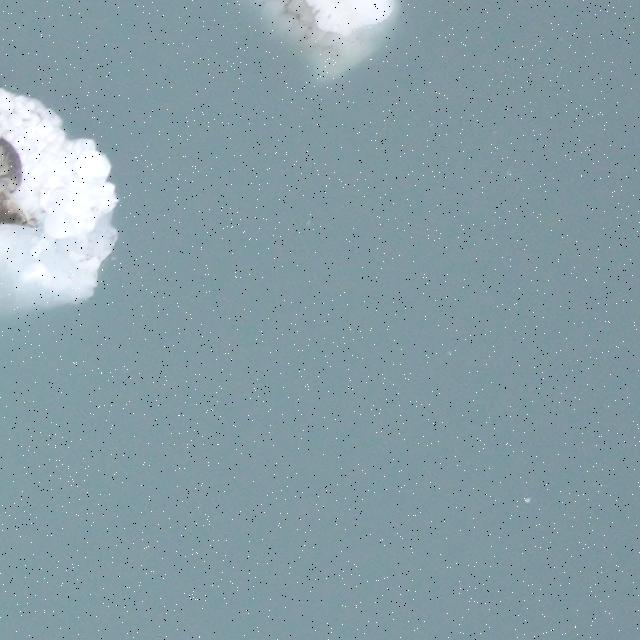seal: (0, 176, 45, 233), (1, 131, 25, 200)
